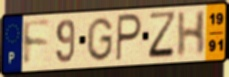9: (54, 17, 77, 65)
F: (21, 19, 52, 69)
G: (85, 16, 114, 63)
H: (176, 9, 208, 60)
P: (114, 12, 144, 64)
Z: (147, 9, 178, 60)
